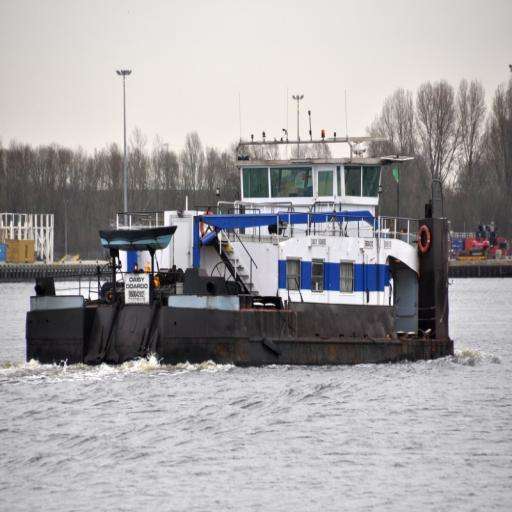tugboat: (22, 129, 460, 376)
